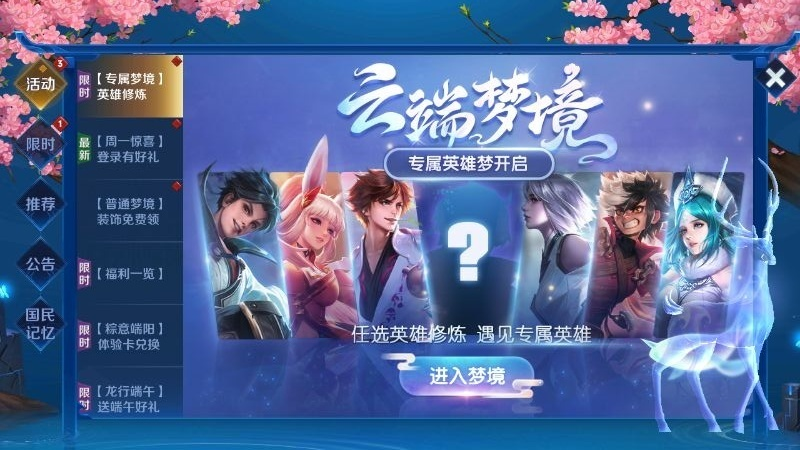close: (762, 63, 788, 92)
tag: (77, 120, 175, 174), (92, 314, 173, 358), (85, 189, 165, 229), (92, 257, 164, 290), (23, 303, 56, 342), (21, 248, 61, 278), (22, 190, 58, 217), (22, 130, 55, 154)
